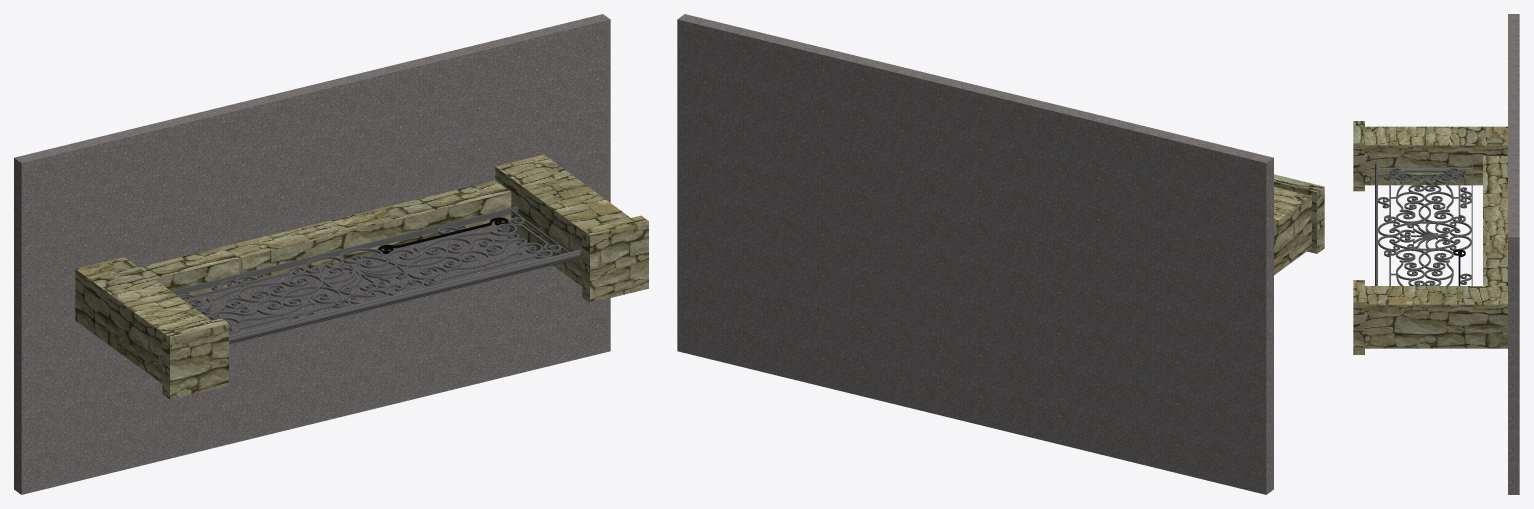
The model's file is balcony1.glb.
3 renders of one model, left to right at view 1: azimuth 30°, elevation 25°; view 2: azimuth 150°, elevation 25°; view 3: azimuth 270°, elevation 25°, orthographic. The views are drawn at different scales.
Bounding box in the file's own units: 4.56 × 2.46 × 1.44.
Materials: 9 (2 with a texture image).
